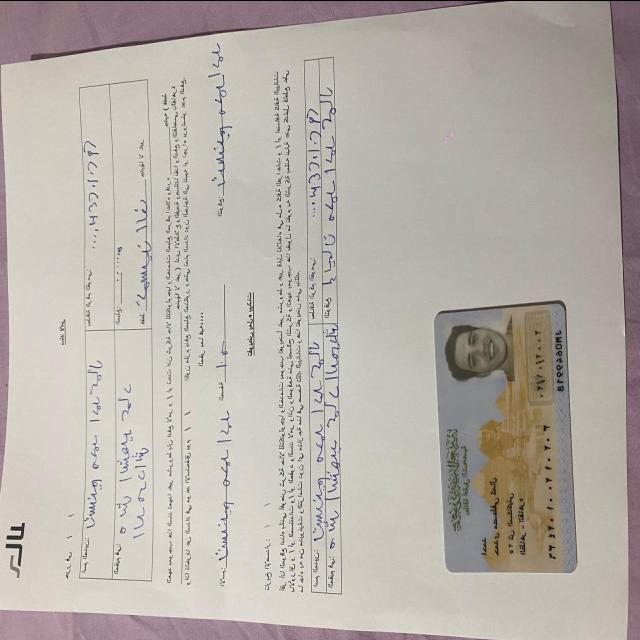ID-cards: (431, 287, 587, 583)
